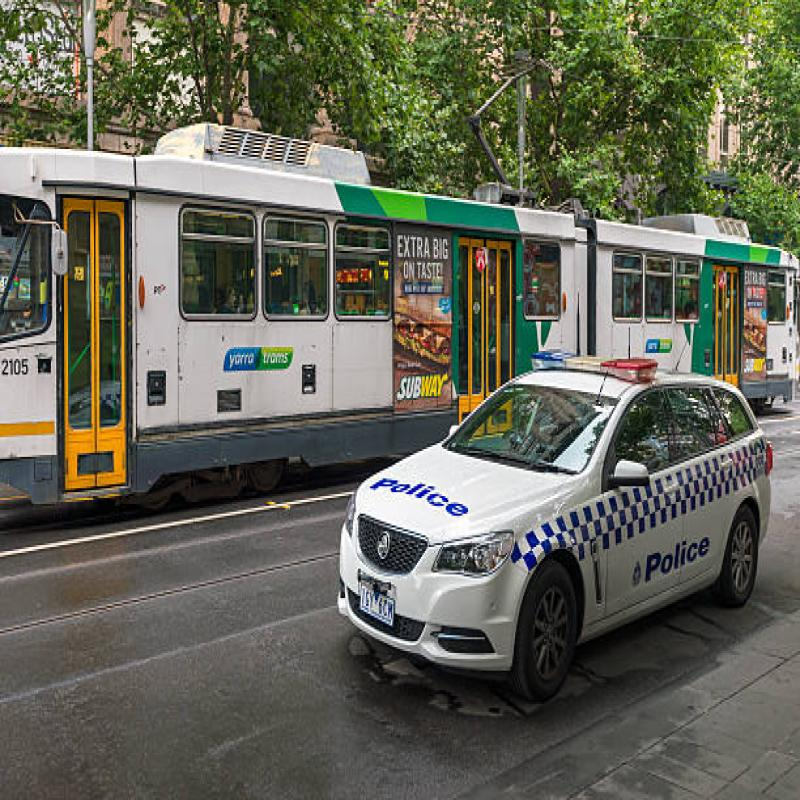AmbulanceSiren: (530, 337, 664, 406)
